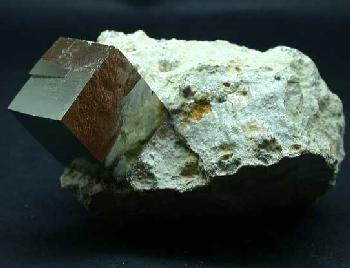pyrite: (8, 37, 166, 180)
